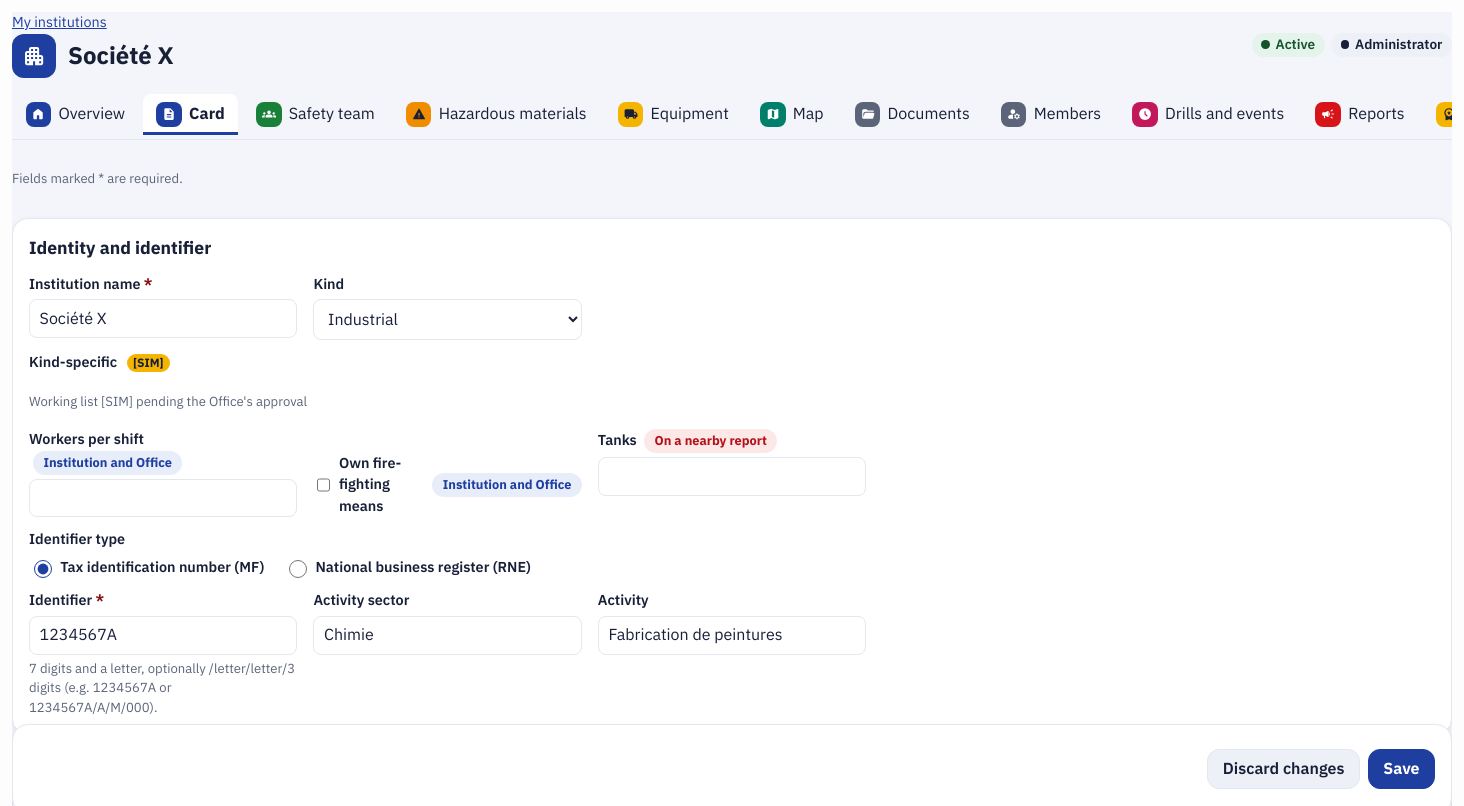
card editor: optimistic version › offers a reload on 409 version_conflict, then saves with the fresh version
Replace the text in the field labelled "Activity" with "Vernis". click: (732, 635)
box: top-left (598, 616), bottom-right (866, 655)
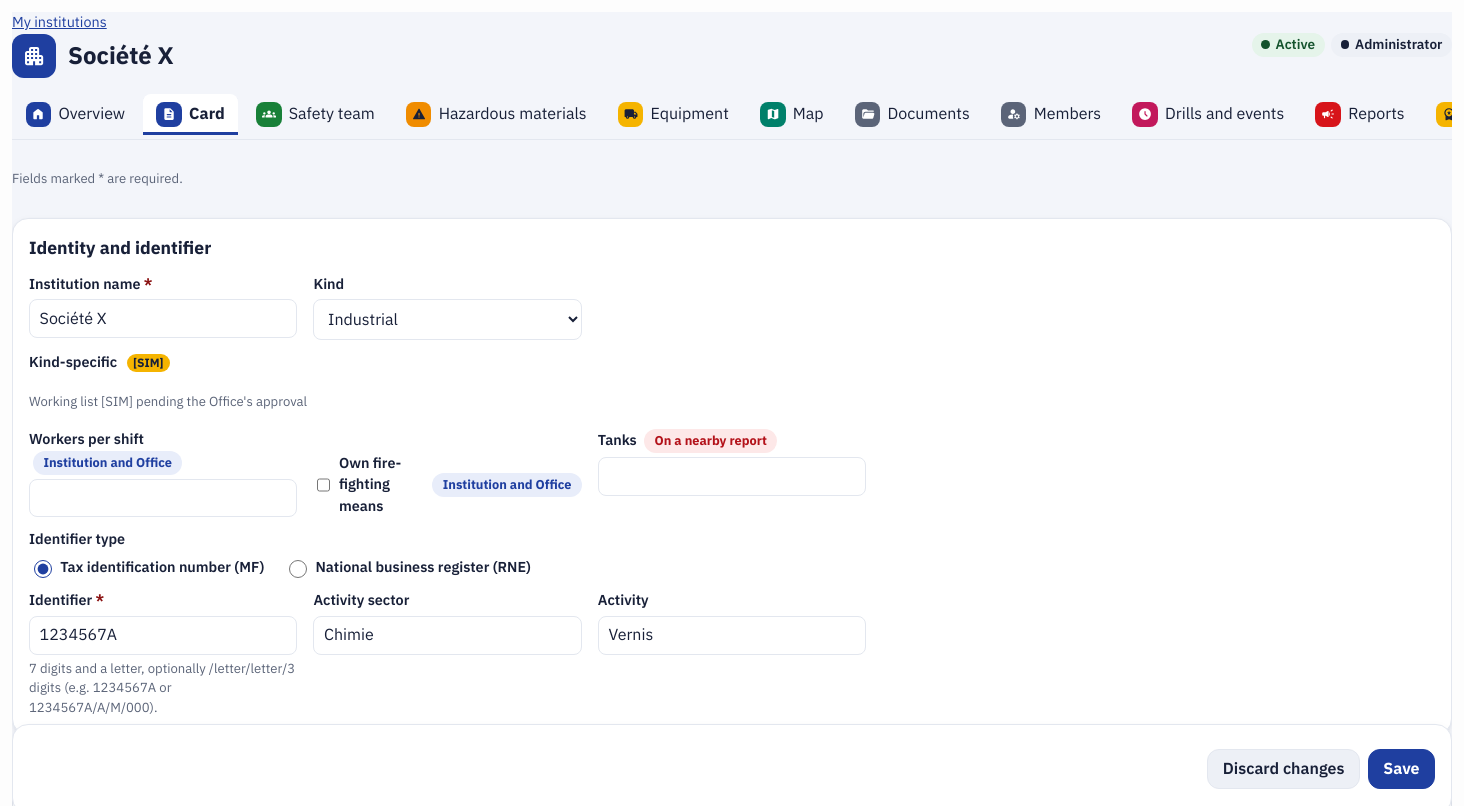
Click the button "Save". click: (1401, 769)
box: top-left (1368, 749), bottom-right (1435, 789)
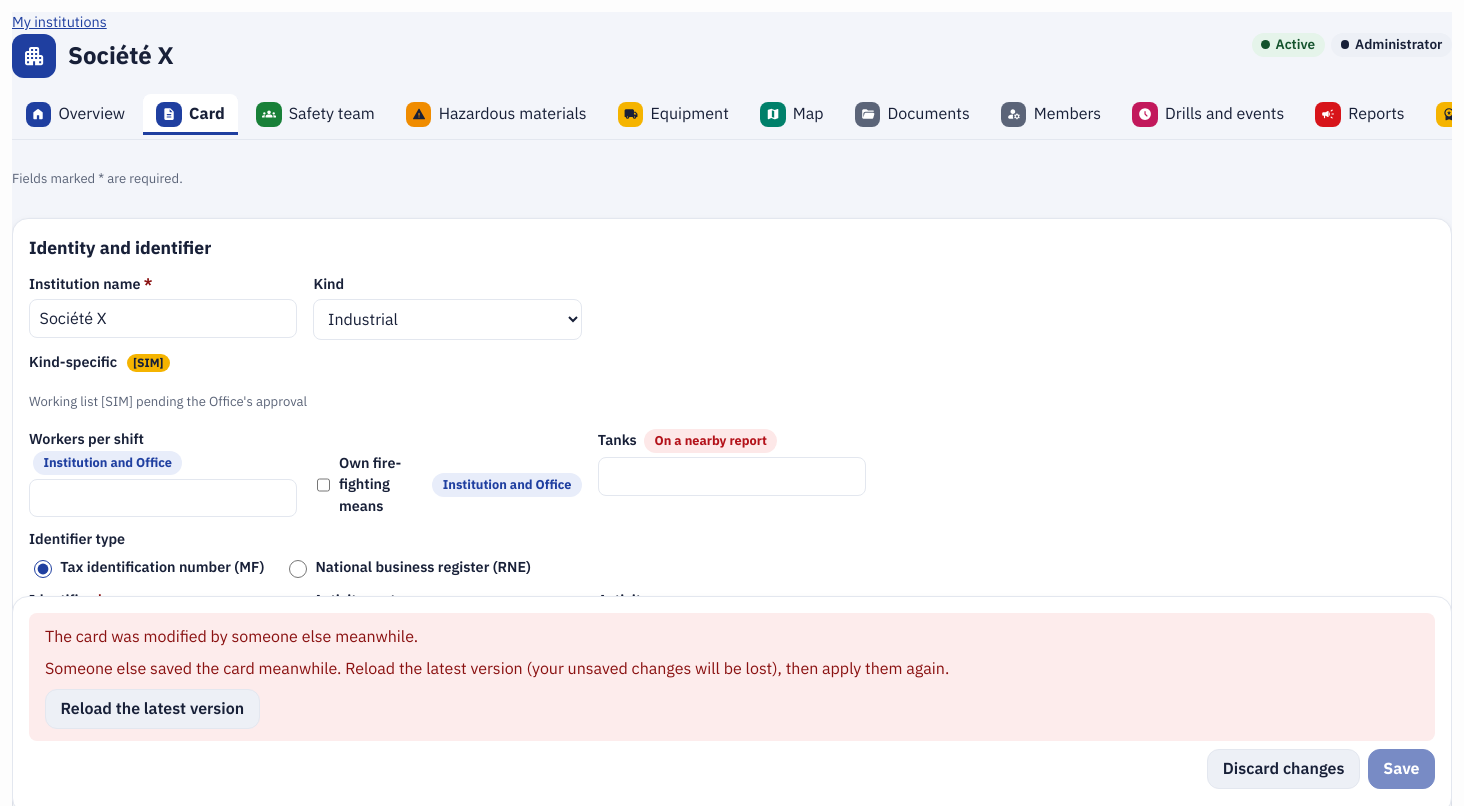
Result: the text "The card was modified by someone else meanwhile." is shown at top-left (45, 625), bottom-right (418, 649)
Result: the button "Save" is disabled at top-left (1368, 749), bottom-right (1435, 789)
Click the button "Reload the latest version". click: (152, 709)
box: top-left (45, 689), bottom-right (260, 729)
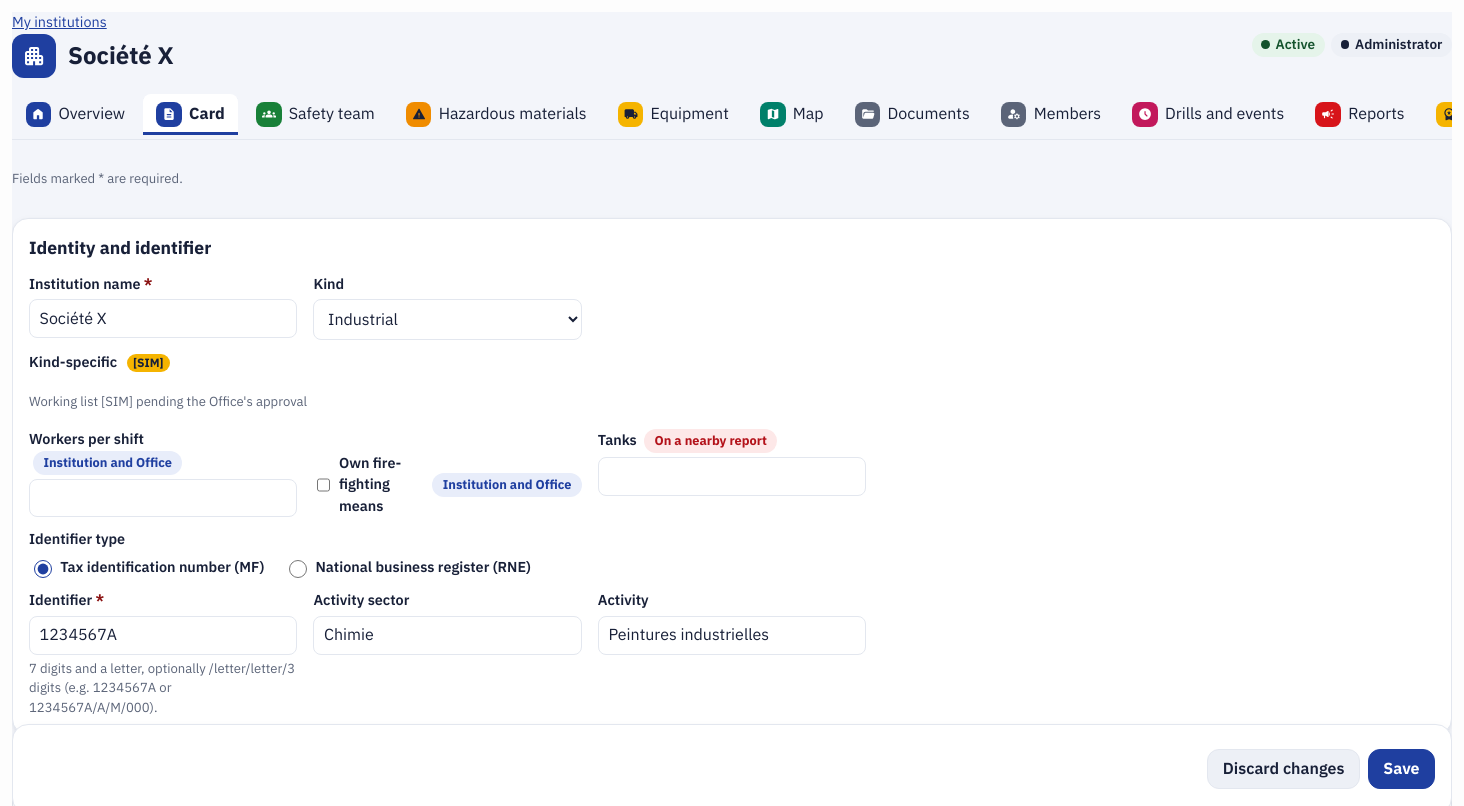
Result: the field labelled "Activity" holds "Peintures industrielles" at top-left (598, 616), bottom-right (866, 655)
Click the button "Save". click: (1401, 769)
box: top-left (1368, 749), bottom-right (1435, 789)
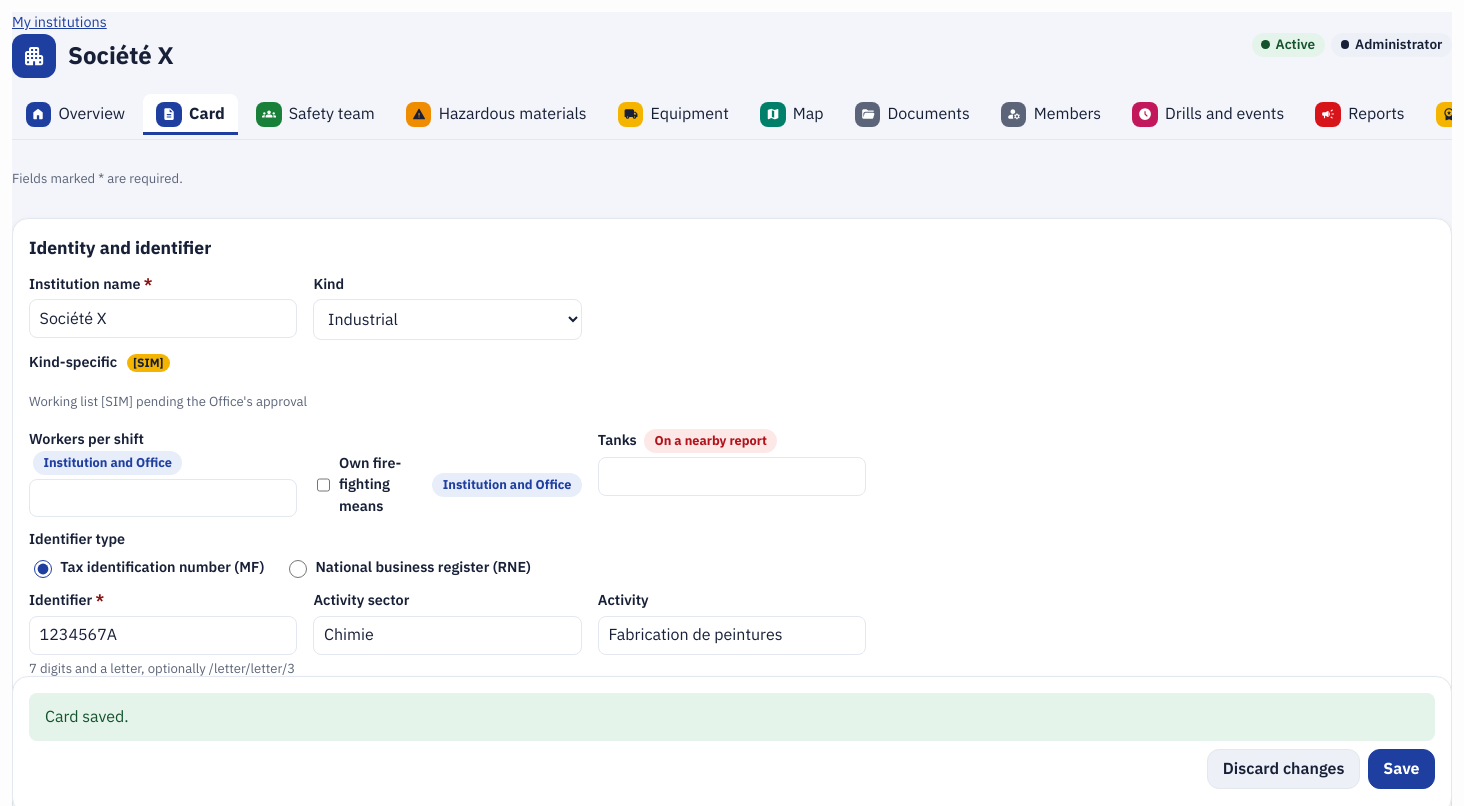
Result: the text "Card saved." is shown at top-left (29, 693), bottom-right (1435, 741)
